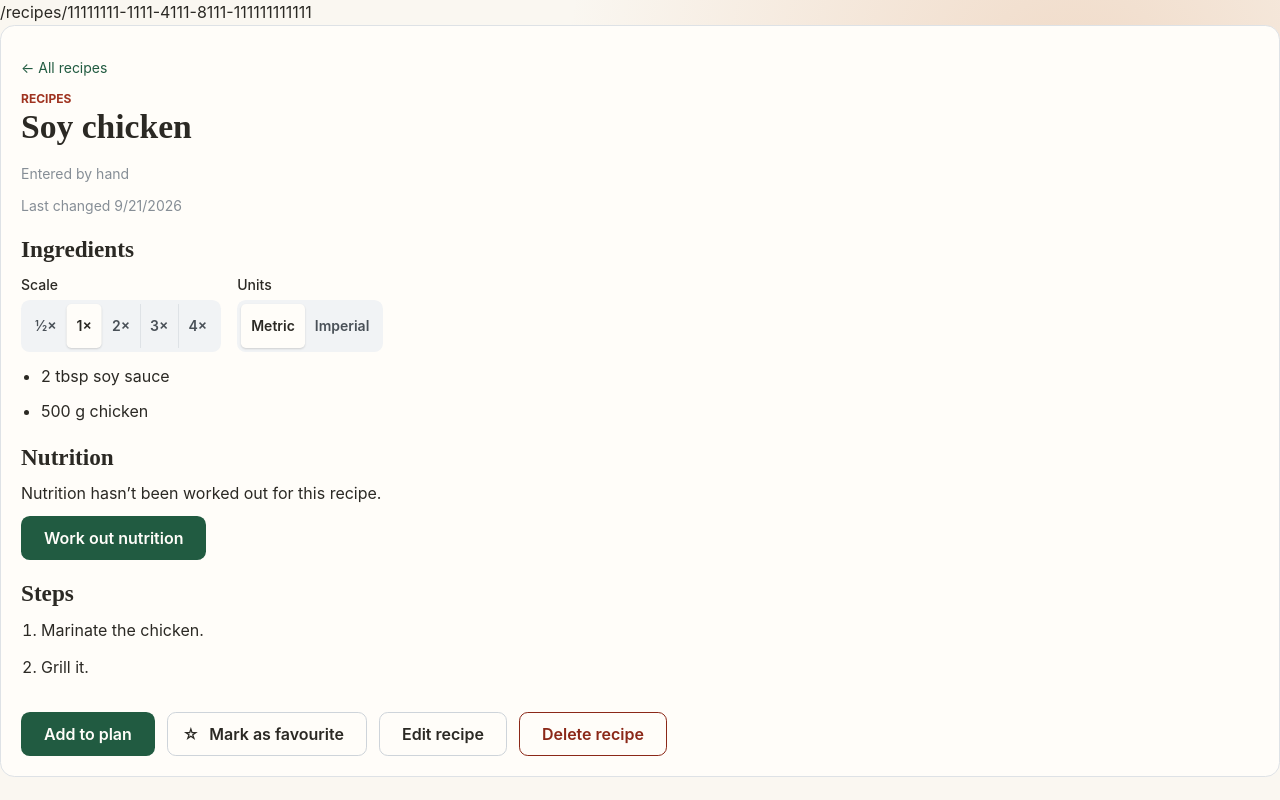
Scenario: Recipe nutrition › checking the matches › prefills AI proposals, while saving still requires a separate tap
What coordinates should you click on to do the following:
click the button "Work out nutrition"
I would click on:
 (114, 538)
Its box is [21,516,206,560].
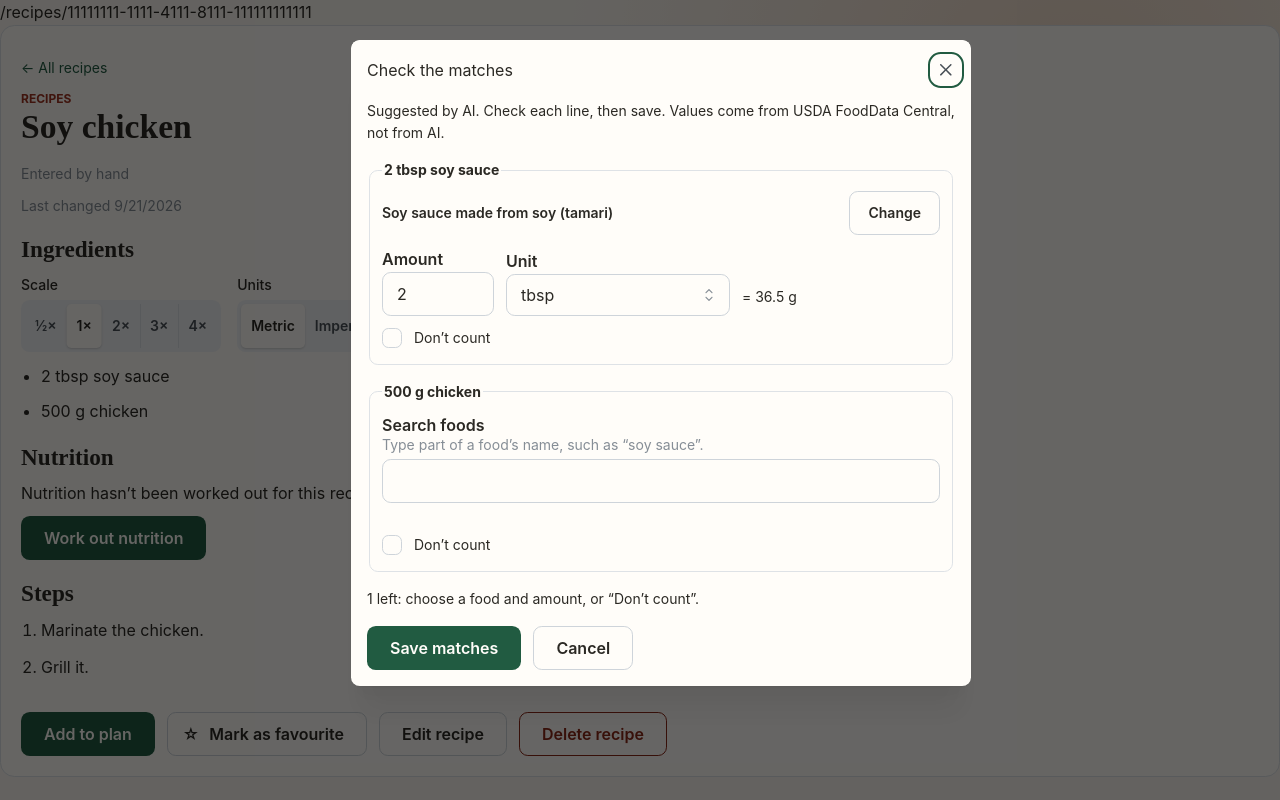
Expected: the text "Soy sauce made from soy (tamari)" is shown, [382,202,613,224]
Expected: the text with test id "review-grams" reads "= 36.5 g", [742,288,797,305]
Expected: the text "Suggested by AI." is shown, [367,102,955,141]
